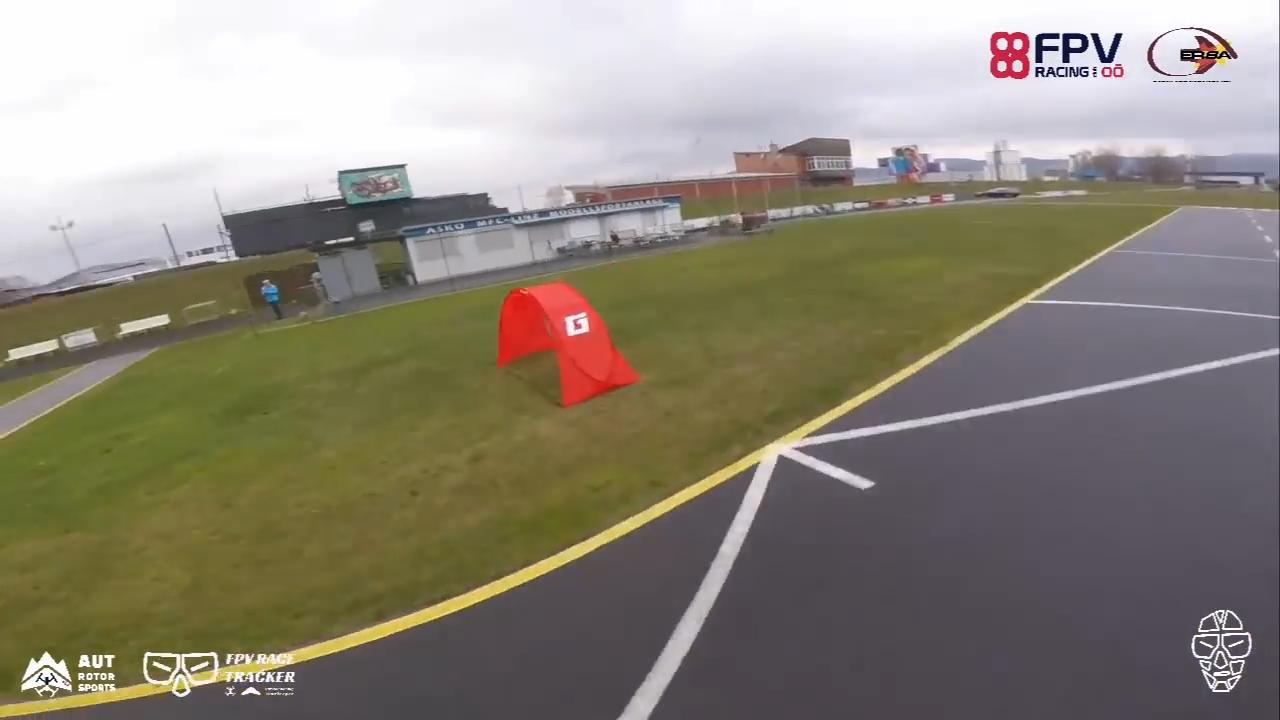gate: (493, 279, 641, 409)
